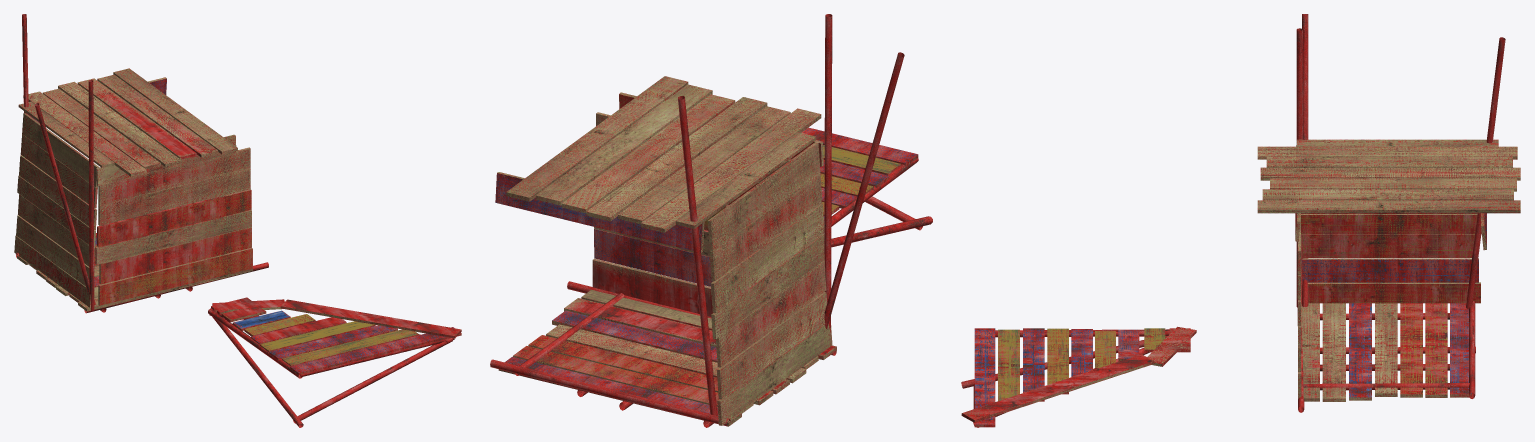
The model's file is Tree_Platform.fbx.
The picture shows the model from 3 angles, left to right: view 1: azimuth 30°, elevation 25°; view 2: azimuth 150°, elevation 25°; view 3: azimuth 270°, elevation 25°; orthographic projection. The views are drawn at different scales.
Visible parts, largest first — view 1: Group2, Group1; view 2: Group2, Group1; view 3: Group2, Group1.
Boxes of the visible parts, x1,y1,x2,y2 form: Group2: (14, 14, 268, 313); Group1: (208, 297, 461, 427); Group2: (490, 14, 904, 427); Group1: (728, 127, 932, 247); Group2: (1257, 14, 1520, 412); Group1: (961, 326, 1196, 427).
Bounding box in the file's own units: 442 × 384 × 611.
